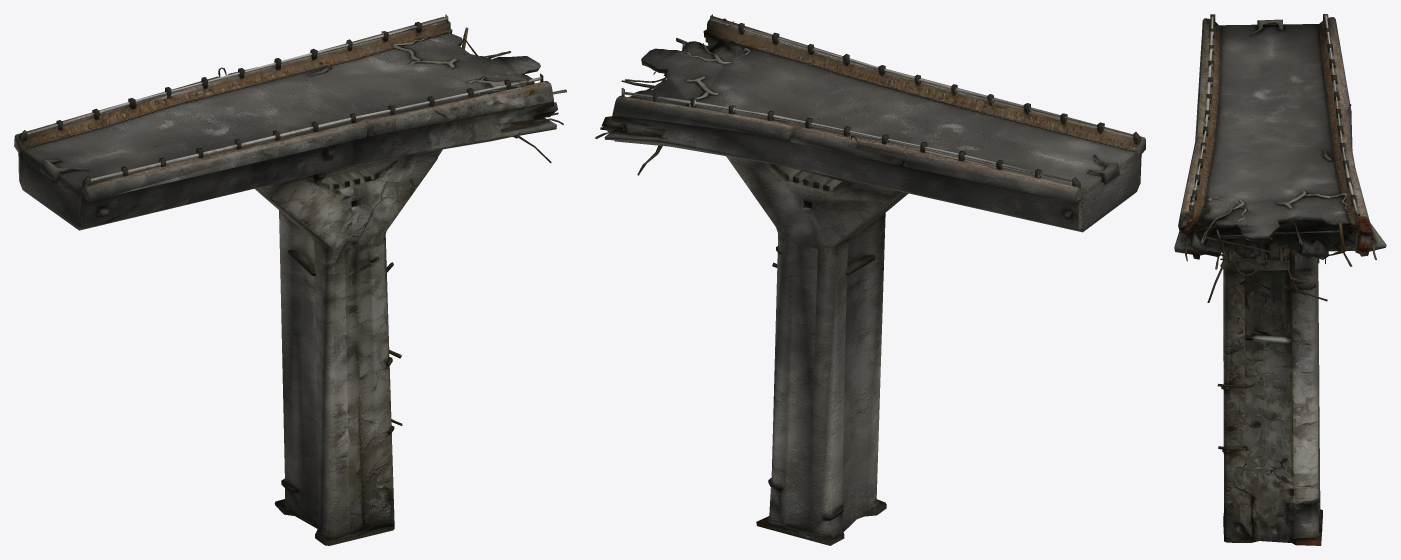
File: ruined_elevated_bridge.glb
3 renders of one model, left to right at view 1: azimuth 30°, elevation 25°; view 2: azimuth 150°, elevation 25°; view 3: azimuth 270°, elevation 25°, orthographic. The views are drawn at different scales.
Visible parts, largest first — view 1: tripo_node_a8a8f7e8-43ac-4e51-acc7-5e380a70a030; view 2: tripo_node_a8a8f7e8-43ac-4e51-acc7-5e380a70a030; view 3: tripo_node_a8a8f7e8-43ac-4e51-acc7-5e380a70a030.
Part boxes in pixels (x1,y1,x2,y2): tripo_node_a8a8f7e8-43ac-4e51-acc7-5e380a70a030: [14, 14, 566, 545]; tripo_node_a8a8f7e8-43ac-4e51-acc7-5e380a70a030: [595, 14, 1145, 545]; tripo_node_a8a8f7e8-43ac-4e51-acc7-5e380a70a030: [1174, 14, 1386, 545].
Bounding box in the file's own units: 0.998 × 0.8652 × 0.4238.
Materials: 1 (1 with a texture image).
